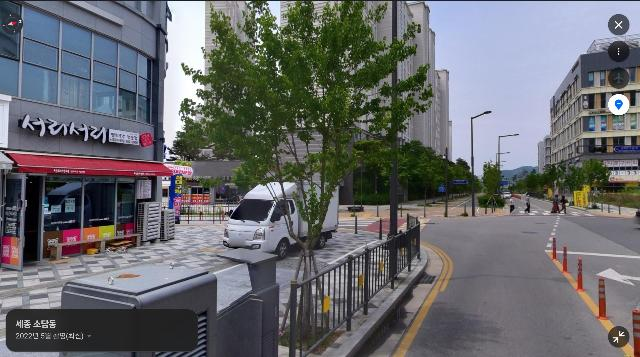other: (178, 0, 436, 350), (360, 139, 406, 204), (403, 143, 439, 206), (166, 117, 207, 163), (576, 157, 607, 205), (436, 151, 463, 205), (542, 159, 575, 203), (481, 159, 504, 215), (453, 157, 472, 202), (526, 170, 545, 204)
